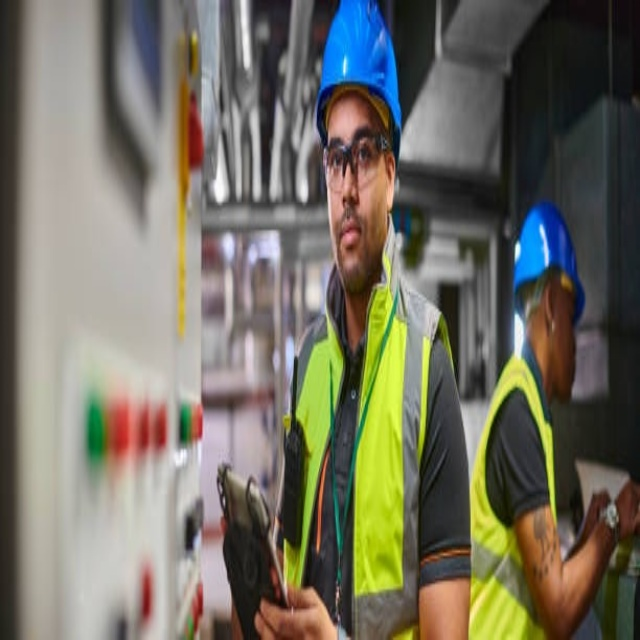Gafas: (322, 124, 393, 185)
Sin_guantes: (259, 580, 332, 640), (611, 475, 639, 542)
Sin_mascara: (332, 202, 367, 269)
